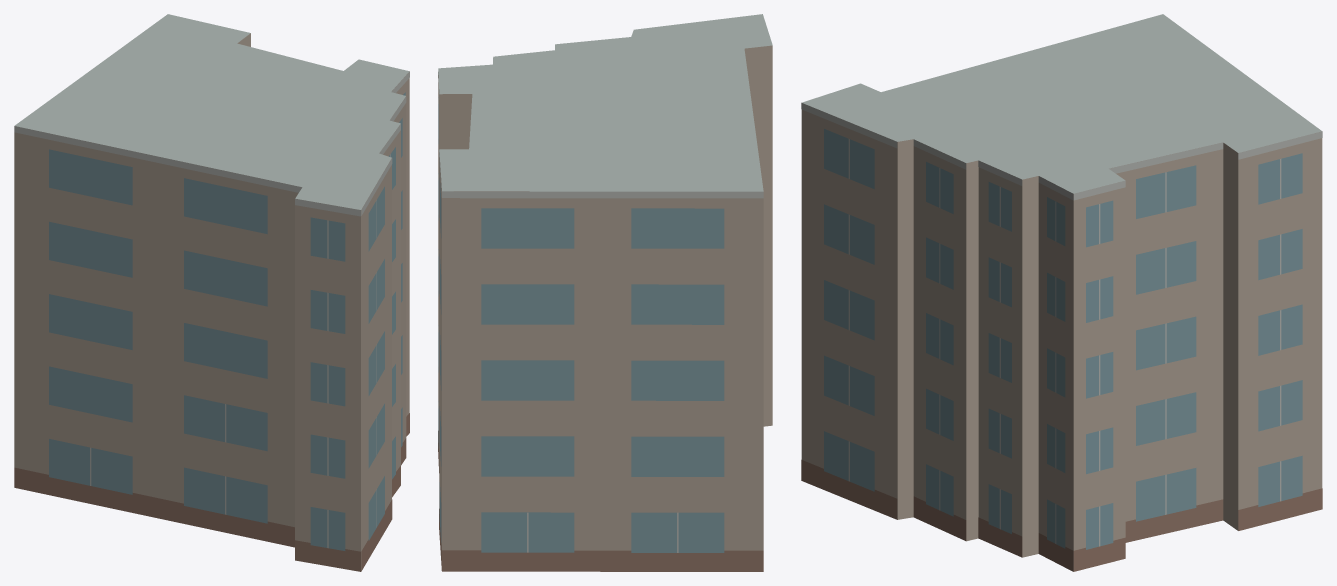
Rendered from survey-upis-32930859.glb.
The picture shows the model from 3 angles, left to right: view 1: azimuth 30°, elevation 25°; view 2: azimuth 150°, elevation 25°; view 3: azimuth 270°, elevation 25°; orthographic projection. The views are drawn at different scales.
Visible parts, largest first — view 1: survey-upis-32930859.tmp; view 2: survey-upis-32930859.tmp; view 3: survey-upis-32930859.tmp.
Part boxes in pixels (x1,y1,x2,y2): survey-upis-32930859.tmp: [14, 14, 409, 571]; survey-upis-32930859.tmp: [438, 14, 772, 571]; survey-upis-32930859.tmp: [801, 14, 1322, 571].
Size of the model in its own units: 13.98 by 13.7 by 17.12.
